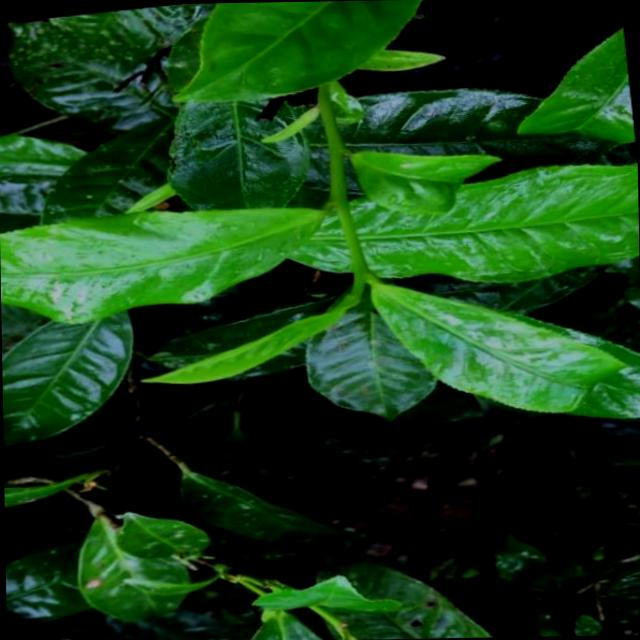Stem: (352, 263, 366, 278)
